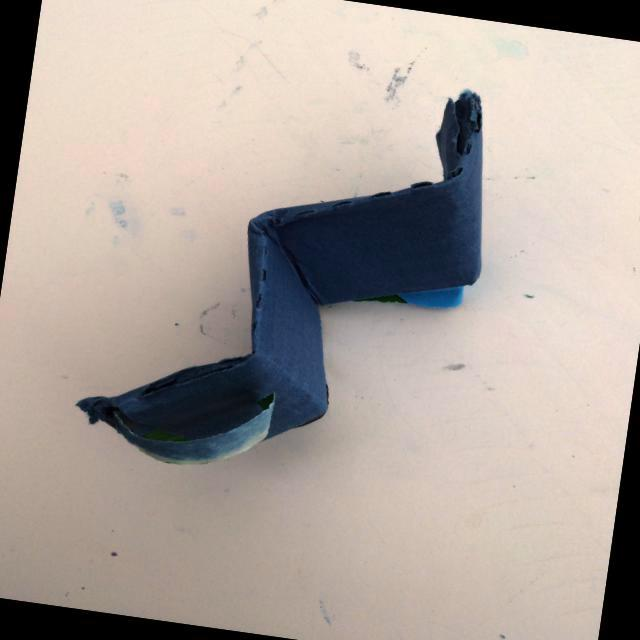cardboard: (9, 19, 618, 569)
